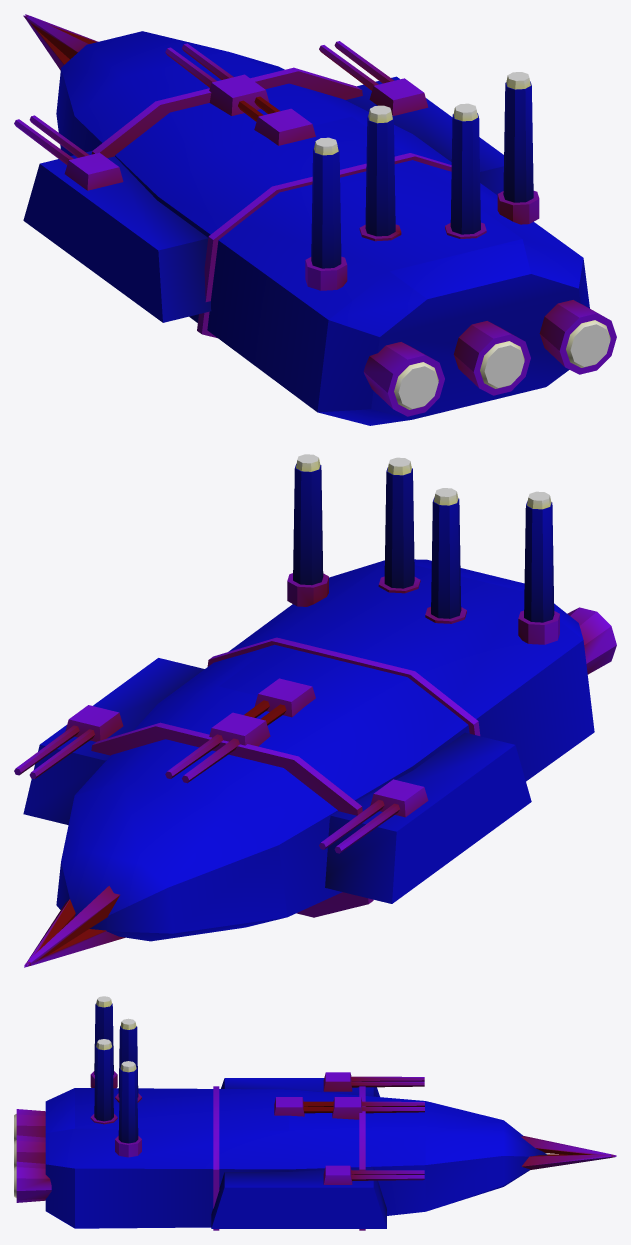
Rendered from pygmaei_furnace_cruiser.fbx.
3 renders of one model, top to bottom at view 1: azimuth 30°, elevation 25°; view 2: azimuth 150°, elevation 25°; view 3: azimuth 270°, elevation 25°, orthographic. The views are drawn at different scales.
Parts seen in each view (by area): view 1: pygmaei_furnace_cruiser; view 2: pygmaei_furnace_cruiser; view 3: pygmaei_furnace_cruiser.
Part boxes in pixels (x1,y1,x2,y2): pygmaei_furnace_cruiser: (14, 14, 616, 425); pygmaei_furnace_cruiser: (14, 454, 616, 967); pygmaei_furnace_cruiser: (14, 996, 616, 1230).
Size of the model in its own units: 0.8778 by 0.6218 by 1.98.
